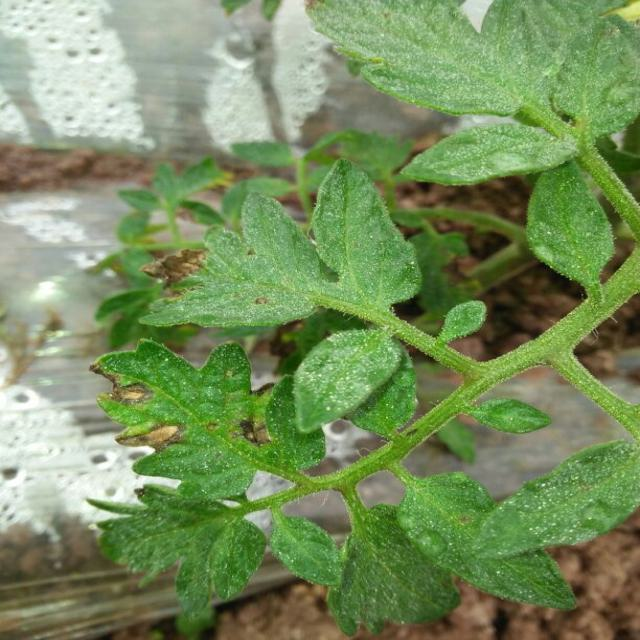Early_blight: (137, 246, 209, 302), (88, 361, 156, 411), (117, 418, 185, 452), (234, 413, 276, 447)
